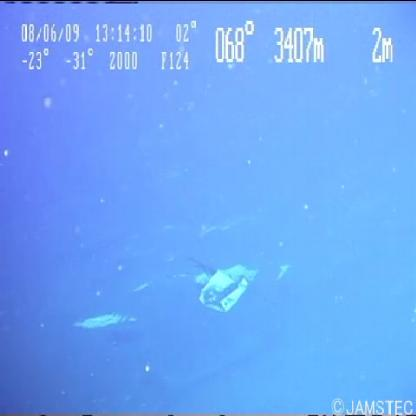Rác: (177, 232, 291, 327)
